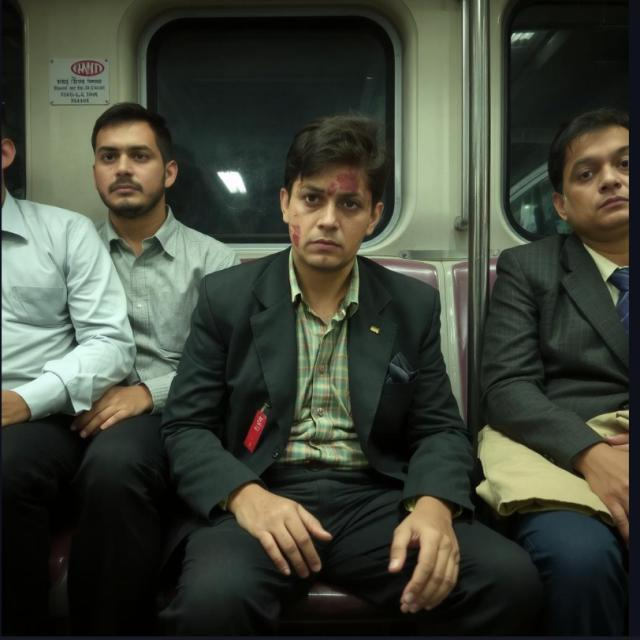Medical_Assistance: (174, 108, 502, 630)
